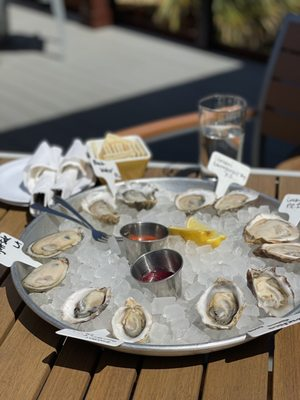pizza: (197, 93, 248, 172)
salad: (51, 190, 110, 242)
